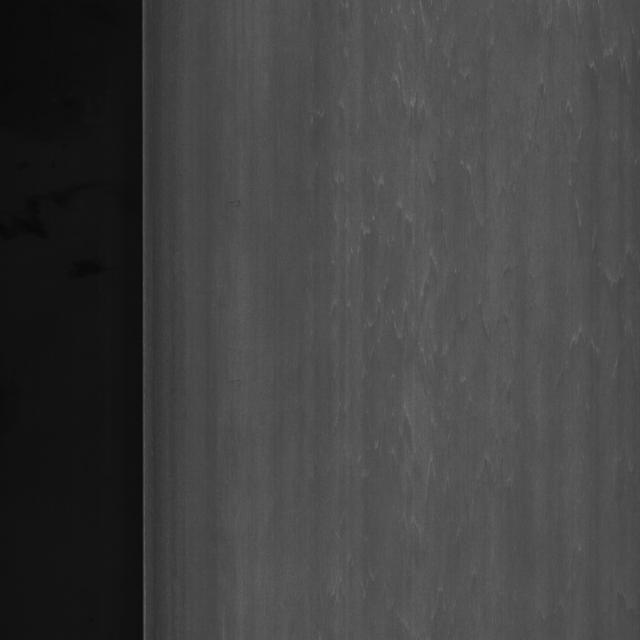inclusion: (346, 17, 526, 551)
